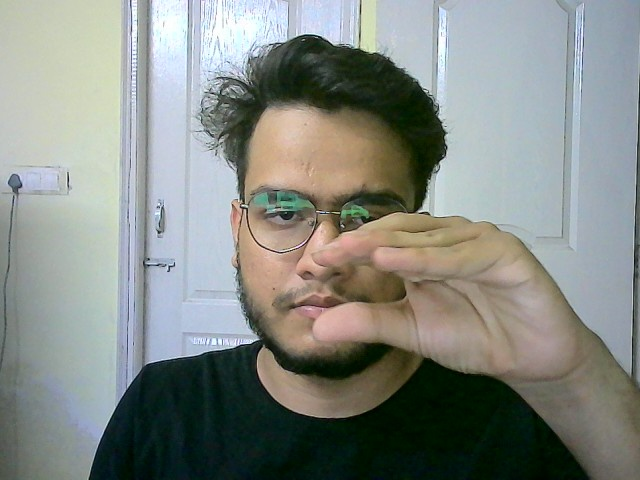No: (303, 211, 584, 393)
